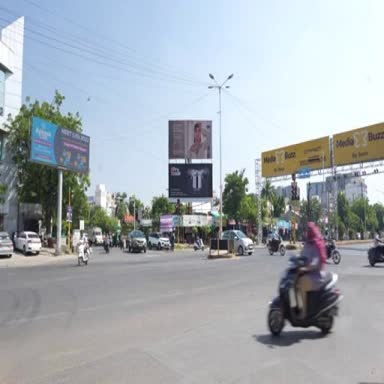Car: (222, 230, 254, 256), (14, 232, 41, 254), (148, 233, 170, 250), (129, 231, 146, 253), (0, 232, 14, 258)
